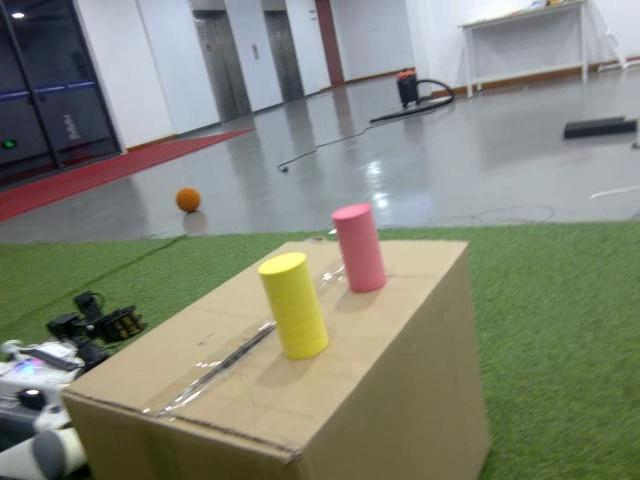orange_ball: (175, 185, 200, 216)
red_cylinder: (329, 201, 388, 293)
yellow_cylinder: (256, 251, 331, 363)
